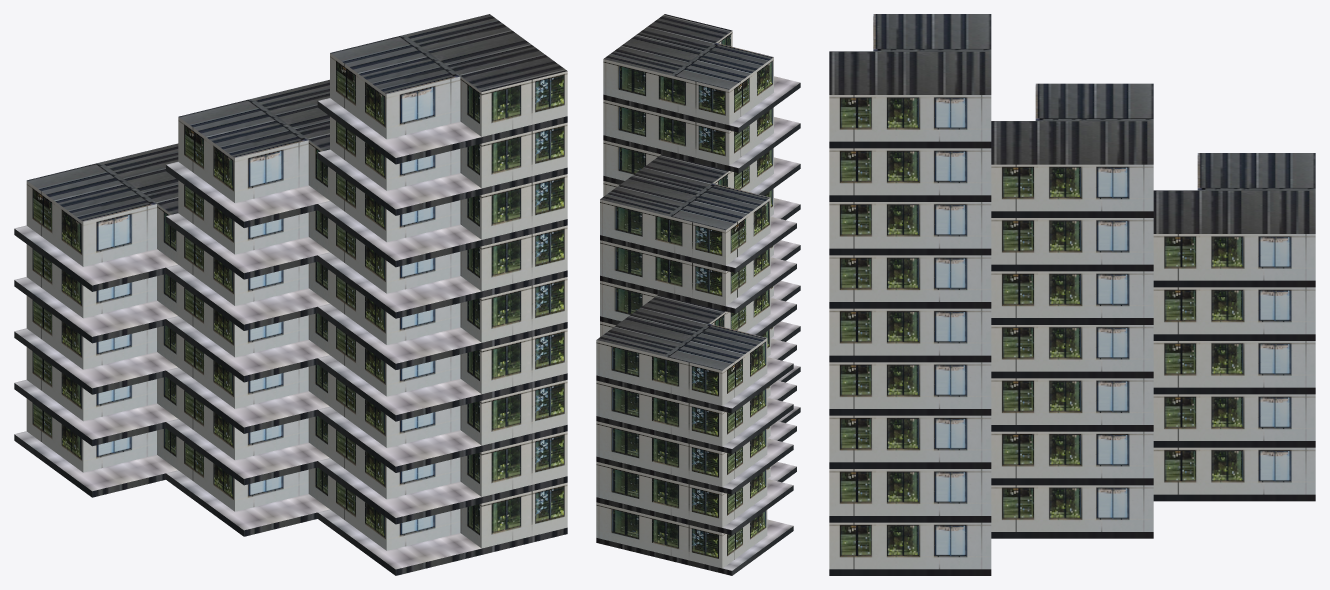
File: Ufficio04.fbx
3 renders of one model, left to right at view 1: azimuth 30°, elevation 25°; view 2: azimuth 150°, elevation 25°; view 3: azimuth 270°, elevation 25°, orthographic. The views are drawn at different scales.
Parts seen in each view (by area): view 1: Ufficio04; view 2: Ufficio04; view 3: Ufficio04.
Boxes of the visible parts, left/top/right/bottom form: Ufficio04: left=14, top=14, right=567, bottom=575; Ufficio04: left=596, top=14, right=800, bottom=575; Ufficio04: left=829, top=14, right=1315, bottom=575.
Bounding box in the file's own units: 2600 × 3600 × 3300.
